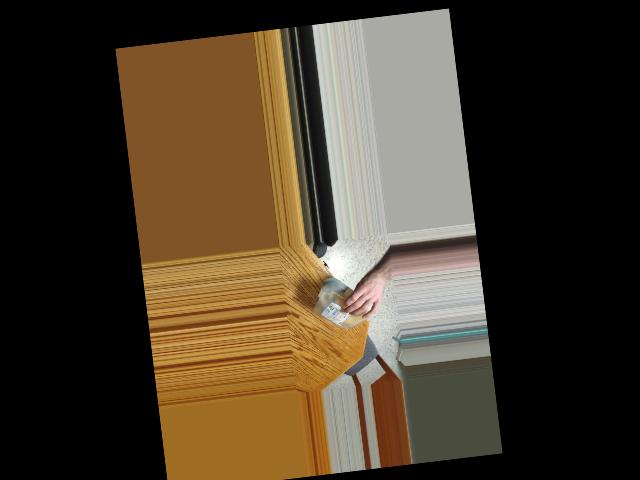cheese: (309, 275, 381, 335)
